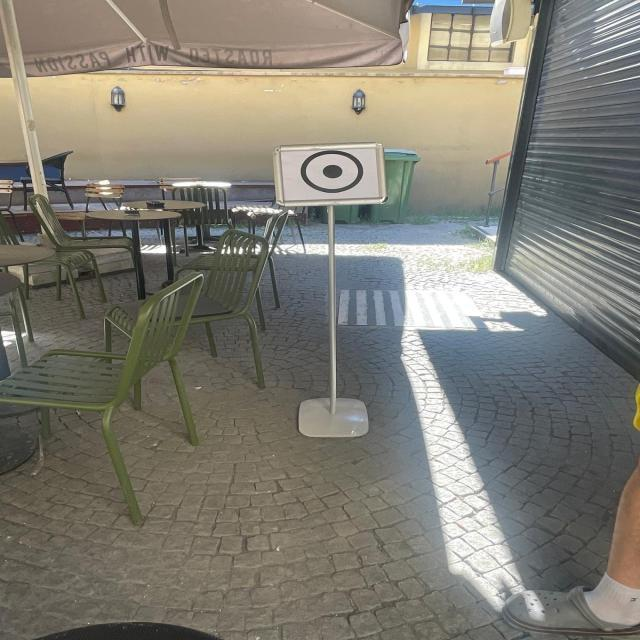Target: (259, 132, 408, 216)
inner: (316, 158, 349, 183)
